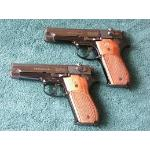Pistol: (10, 62, 102, 126), (44, 26, 132, 90)
